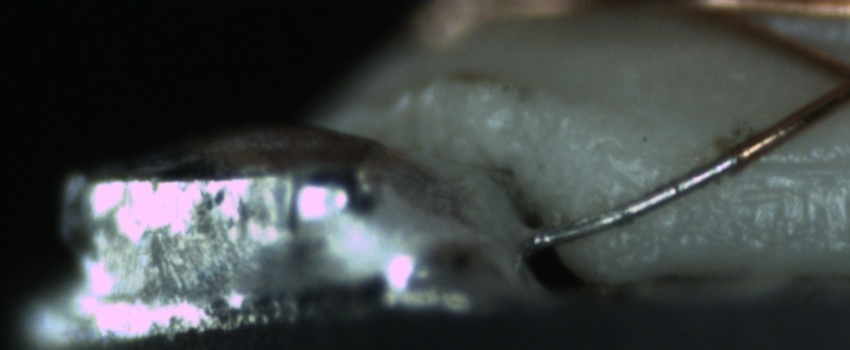DL: (751, 133, 849, 197)
TS: (532, 153, 744, 245)
